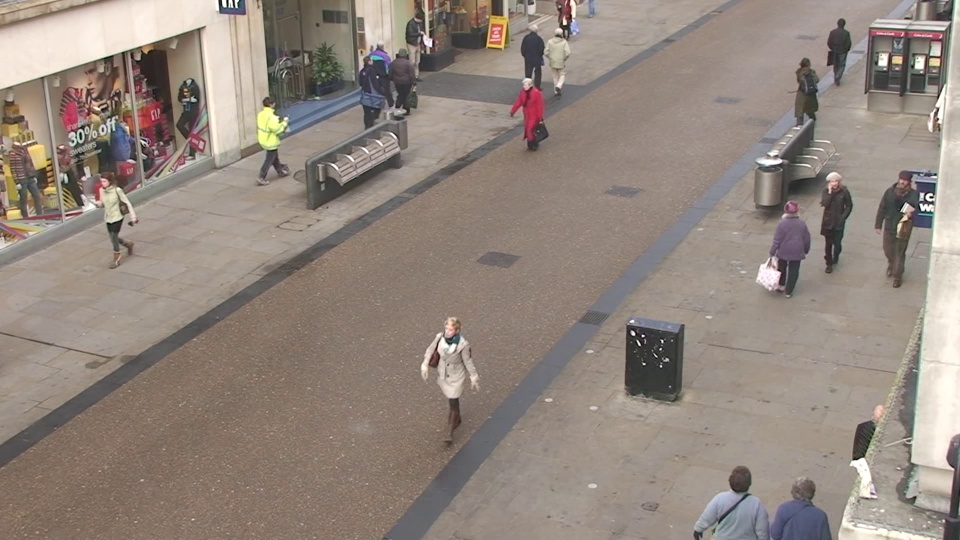pedestrian: (429, 310, 478, 456), (706, 452, 769, 540), (876, 167, 924, 278), (766, 461, 832, 540), (768, 195, 811, 312), (89, 167, 136, 274), (809, 168, 852, 278), (254, 92, 288, 179), (786, 54, 818, 135), (515, 75, 543, 159), (823, 16, 854, 89), (353, 53, 382, 131), (390, 45, 418, 121), (367, 37, 394, 110), (547, 24, 572, 94), (522, 20, 546, 89), (408, 10, 432, 76)
